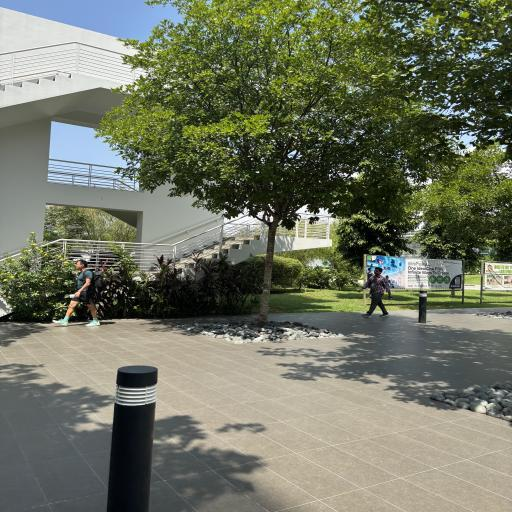person_left: (69, 255, 110, 326), (354, 261, 397, 318)
